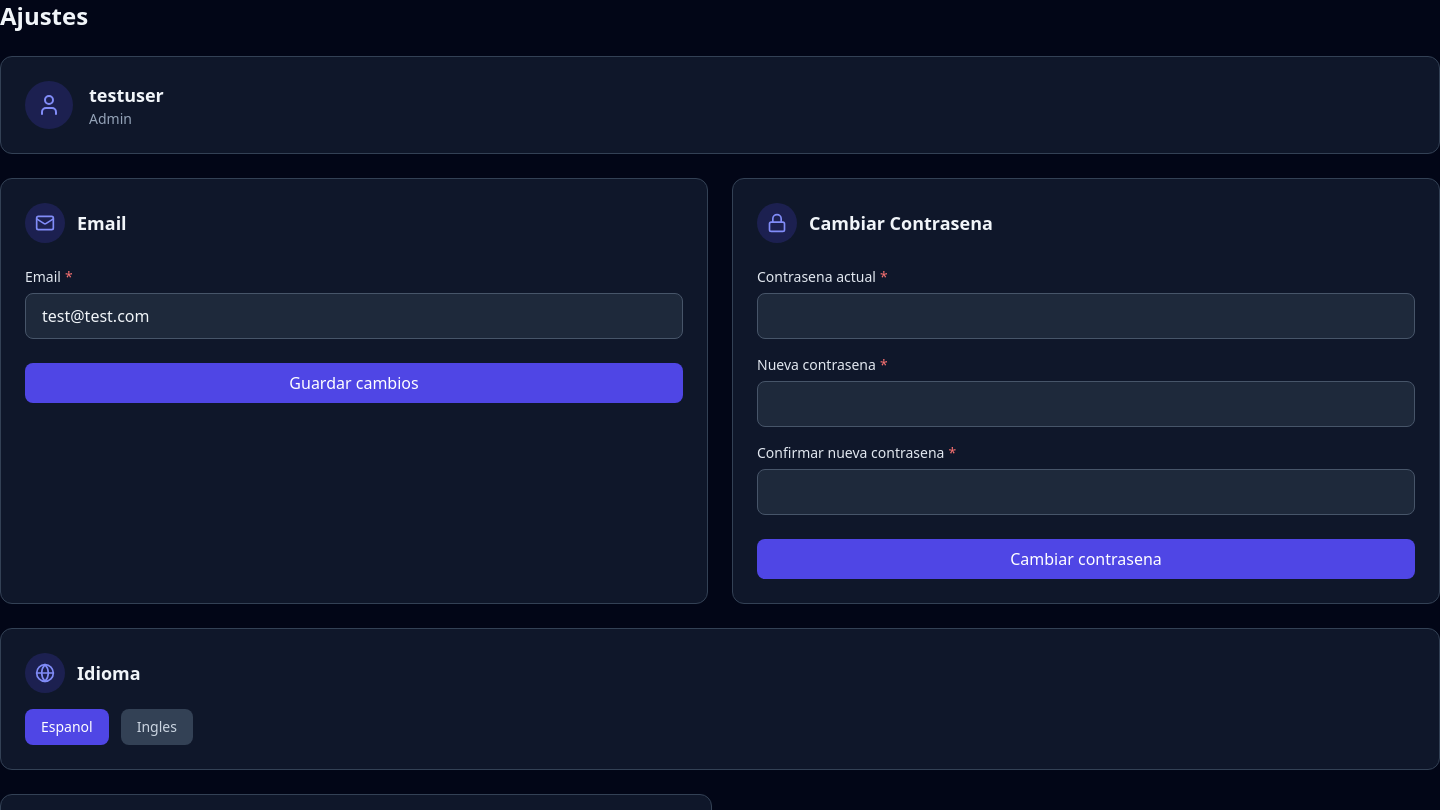
Test case: SettingsPage › validates password minimum length
The width and height of the screenshot is (1440, 810).
Type "oldpass" into the password field with id "current_password" at coordinates (1086, 316), box [757,293,1415,339]
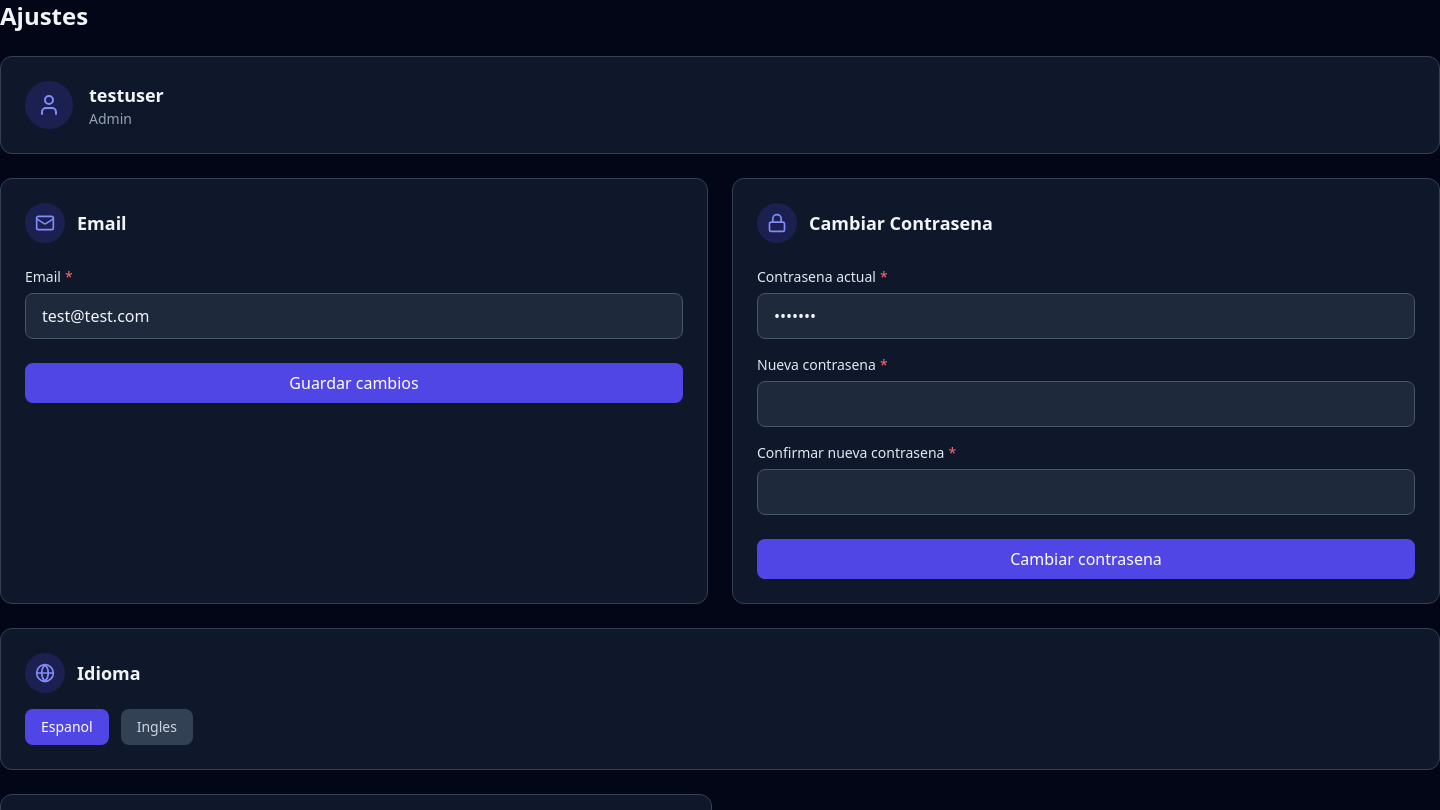
Type "short" into the password field with id "new_password" at coordinates (1086, 404), box [757,381,1415,427]
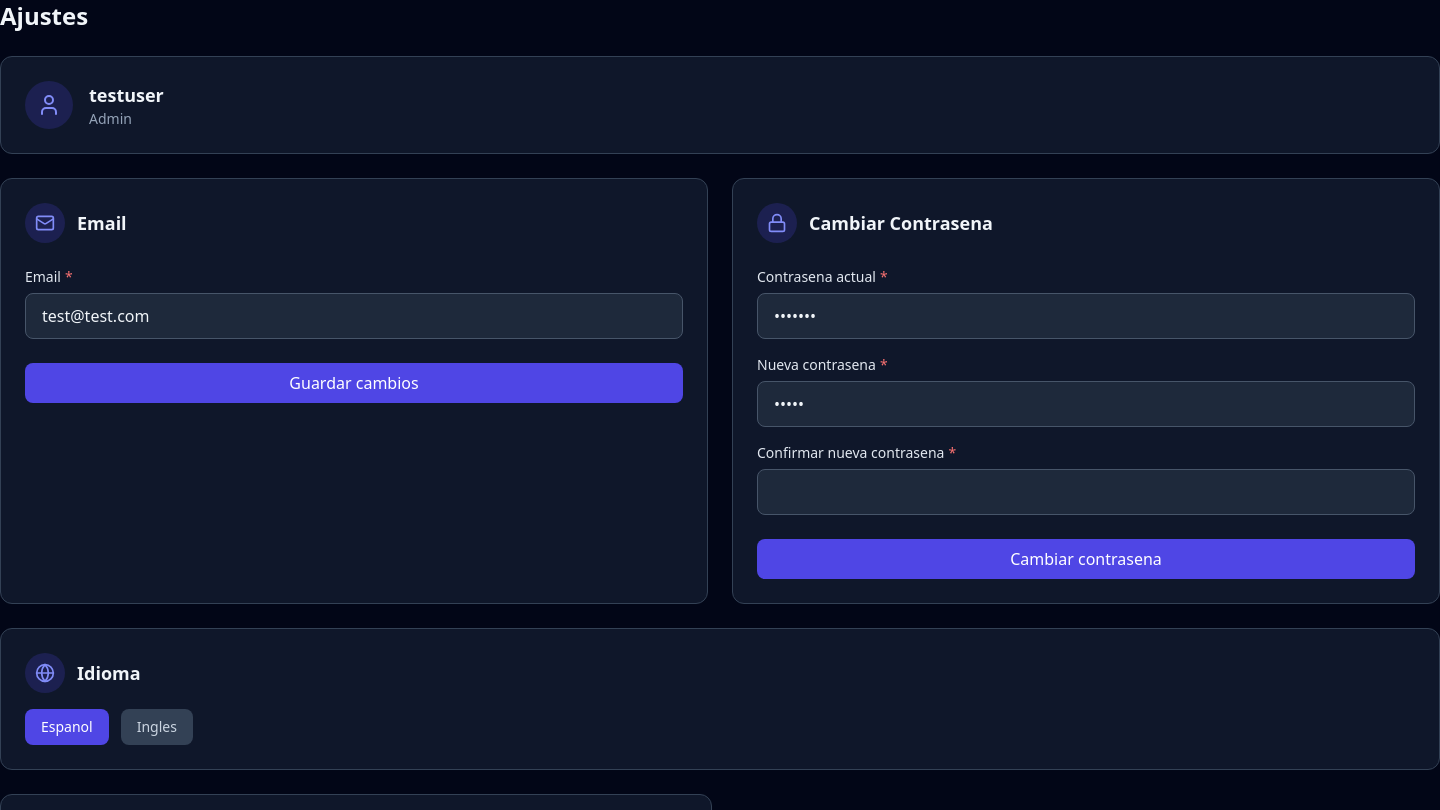
Type "short" into the password field with id "confirm_password" at coordinates (1086, 492), box [757,469,1415,515]
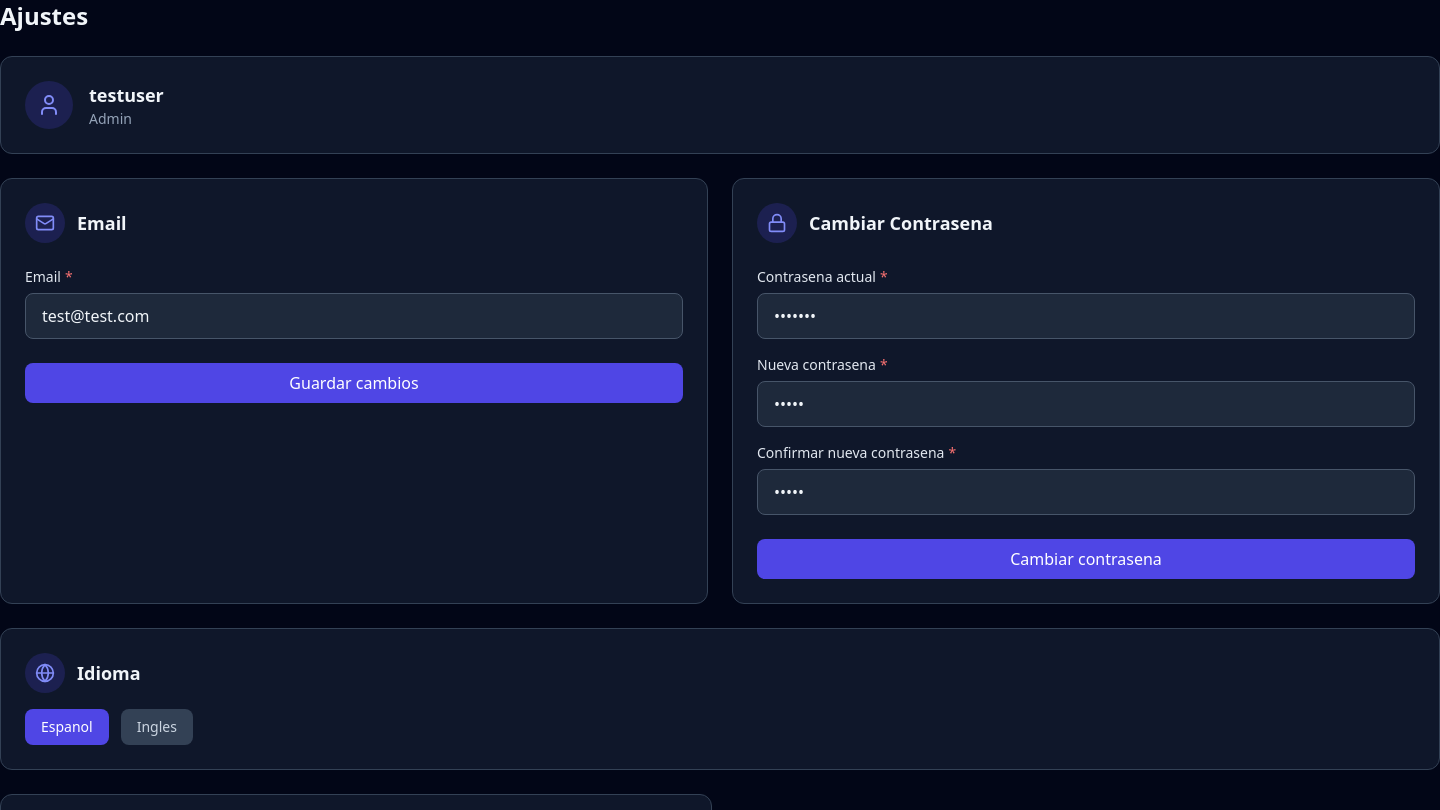
Click the button "Cambiar contrasena" at coordinates (1086, 559), box [757,539,1415,579]
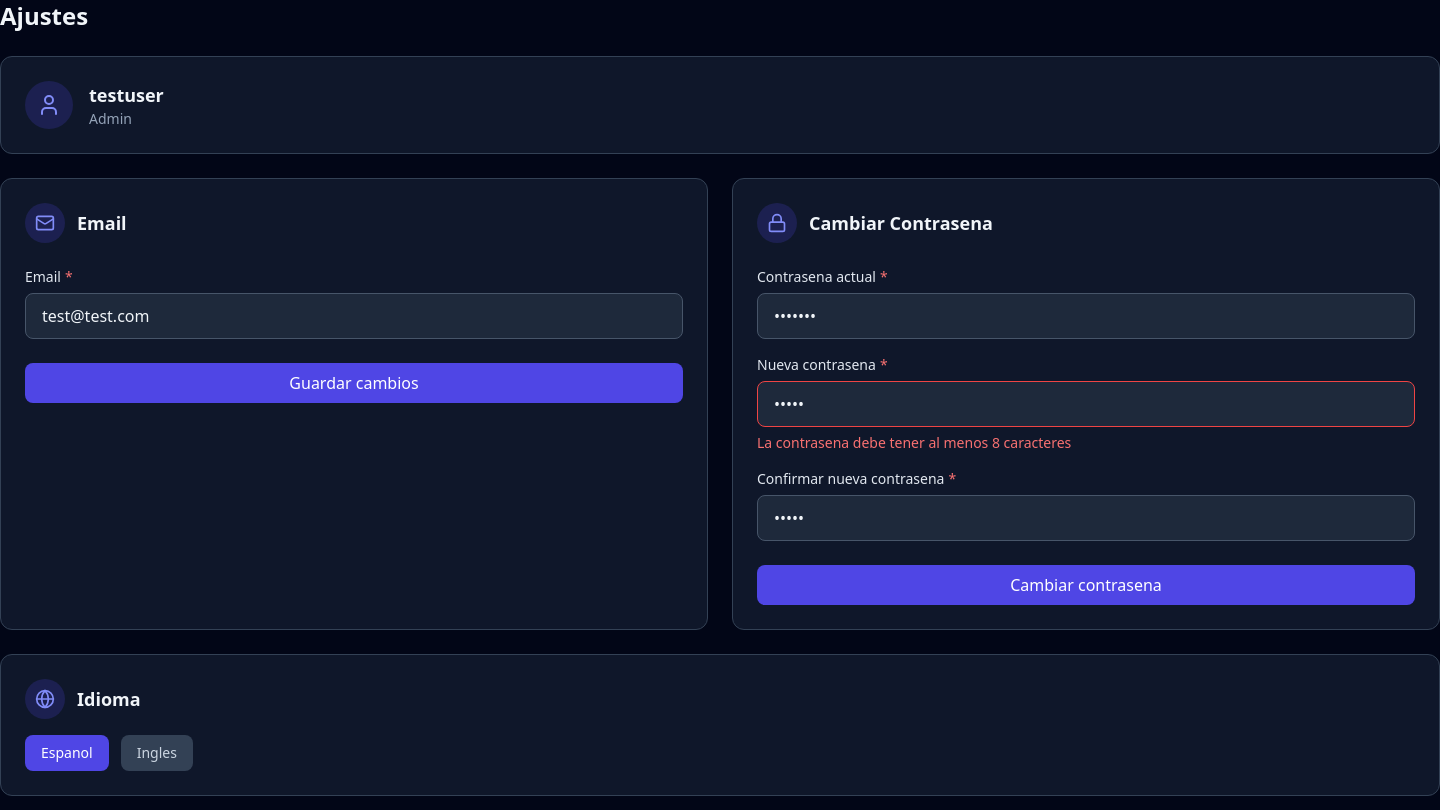
Check: the text "La contrasena debe tener al menos 8 caracteres" is shown, box [757,433,1071,452]
